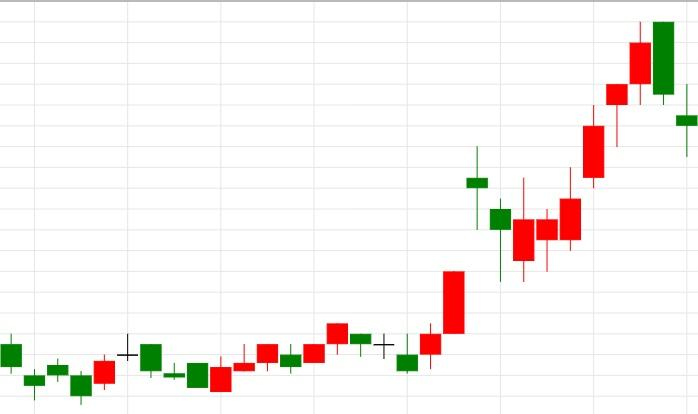bearish_engulfing_fall: (512, 22, 674, 281)
